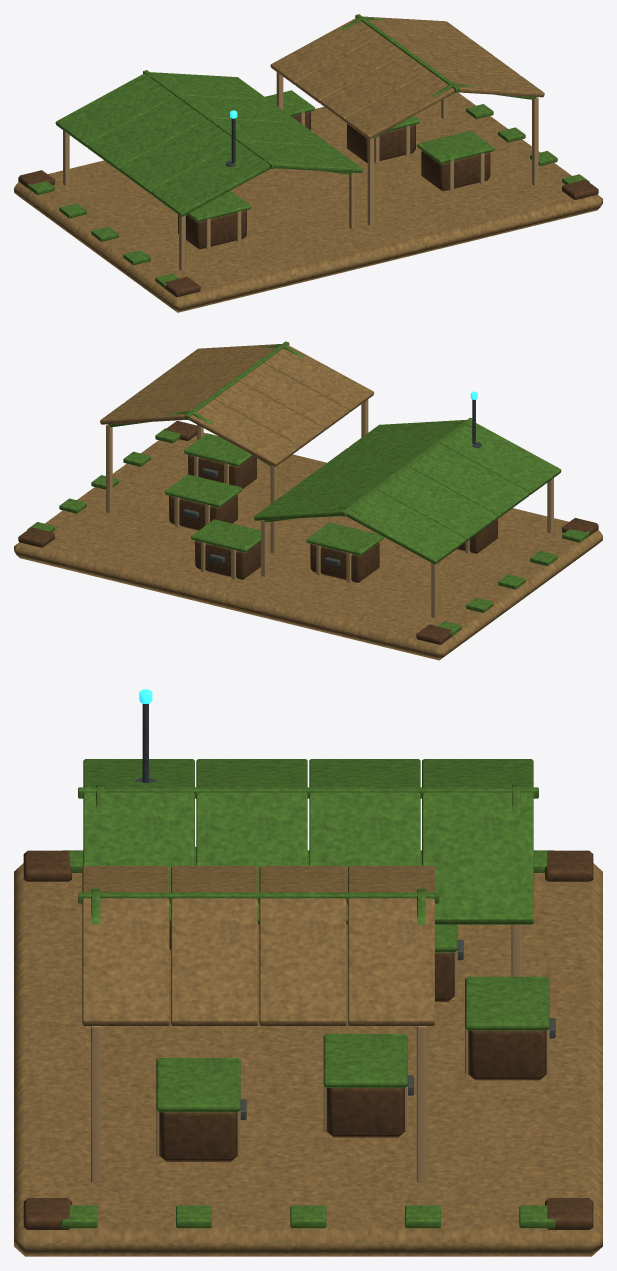
Rendered from vael_marche_noir.gltf.
3 renders of one model, top to bottom at view 1: azimuth 30°, elevation 25°; view 2: azimuth 150°, elevation 25°; view 3: azimuth 270°, elevation 25°, orthographic. The views are drawn at different scales.
Visible parts, largest first — view 1: Root.015_Geometry; view 2: Root.015_Geometry; view 3: Root.015_Geometry.
Boxes of the visible parts, <box> form: Root.015_Geometry: <box>14,14,602,312</box>; Root.015_Geometry: <box>14,341,602,660</box>; Root.015_Geometry: <box>14,689,602,1256</box>.
Bounding box in the file's own units: 5.91 × 2.03 × 3.91.
7 materials, 4 textured.
